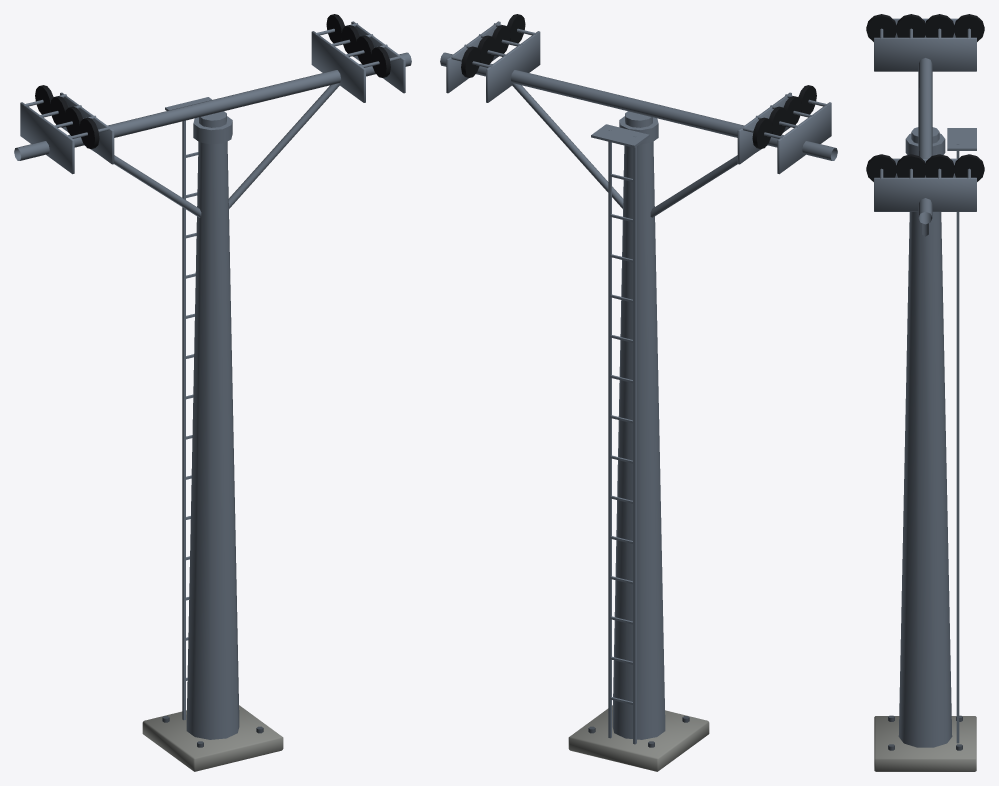
File: tower.glb
3 views of the same model, side by side, from view 1: azimuth 30°, elevation 25°; view 2: azimuth 150°, elevation 25°; view 3: azimuth 270°, elevation 25° (orthographic).
Visible parts, largest first — view 1: Tower; view 2: Tower; view 3: Tower.
Boxes of the visible parts, bbox=[...] form: Tower: bbox=[14, 14, 411, 771]; Tower: bbox=[440, 14, 837, 771]; Tower: bbox=[866, 14, 984, 771].
Size of the model in its own units: 6.3 by 10.41 by 1.68.
1 material, 1 textured.
